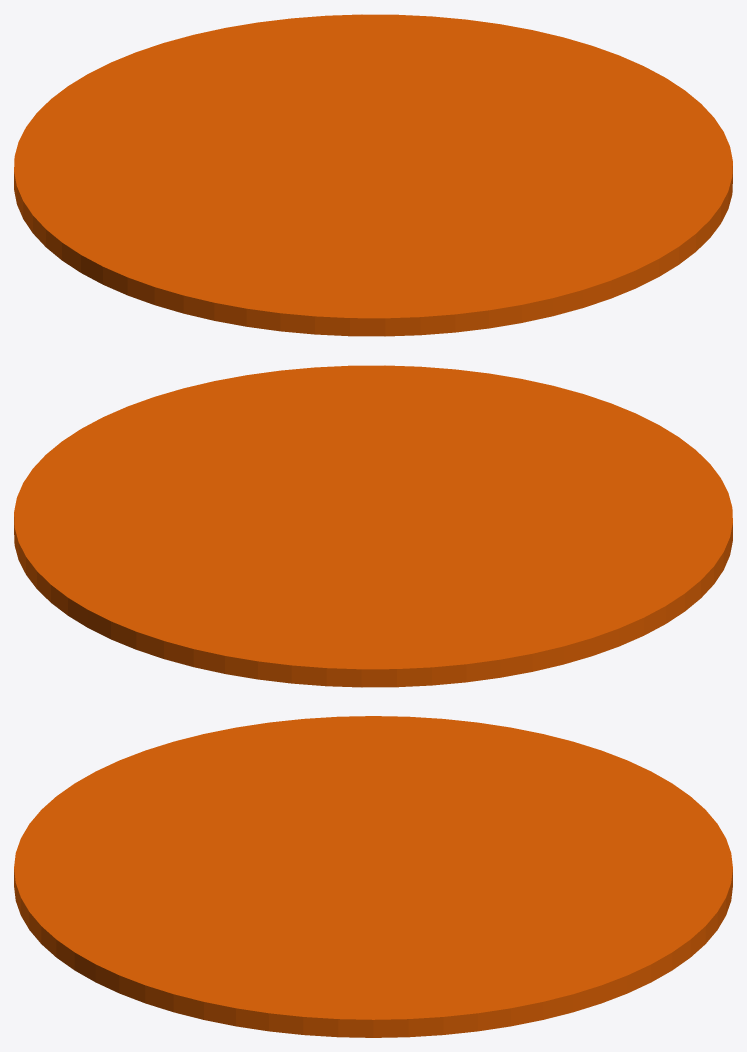
The model's file is elevator_ground.fbx.
3 views of the same model, one above another, from view 1: azimuth 30°, elevation 25°; view 2: azimuth 150°, elevation 25°; view 3: azimuth 270°, elevation 25° (orthographic).
Visible parts, largest first — view 1: elevator_ground; view 2: elevator_ground; view 3: elevator_ground.
Boxes of the visible parts, x1=… form: elevator_ground: x1=14, y1=14, x2=732, y2=336; elevator_ground: x1=14, y1=365, x2=732, y2=687; elevator_ground: x1=14, y1=716, x2=732, y2=1037.
Size of the model in its own units: 542 by 15.1 by 542.
